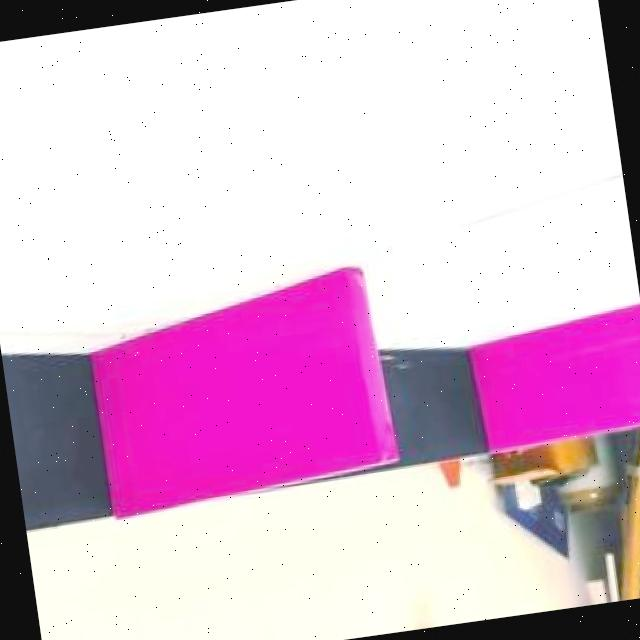xparking: (84, 260, 402, 504), (471, 306, 640, 448)
